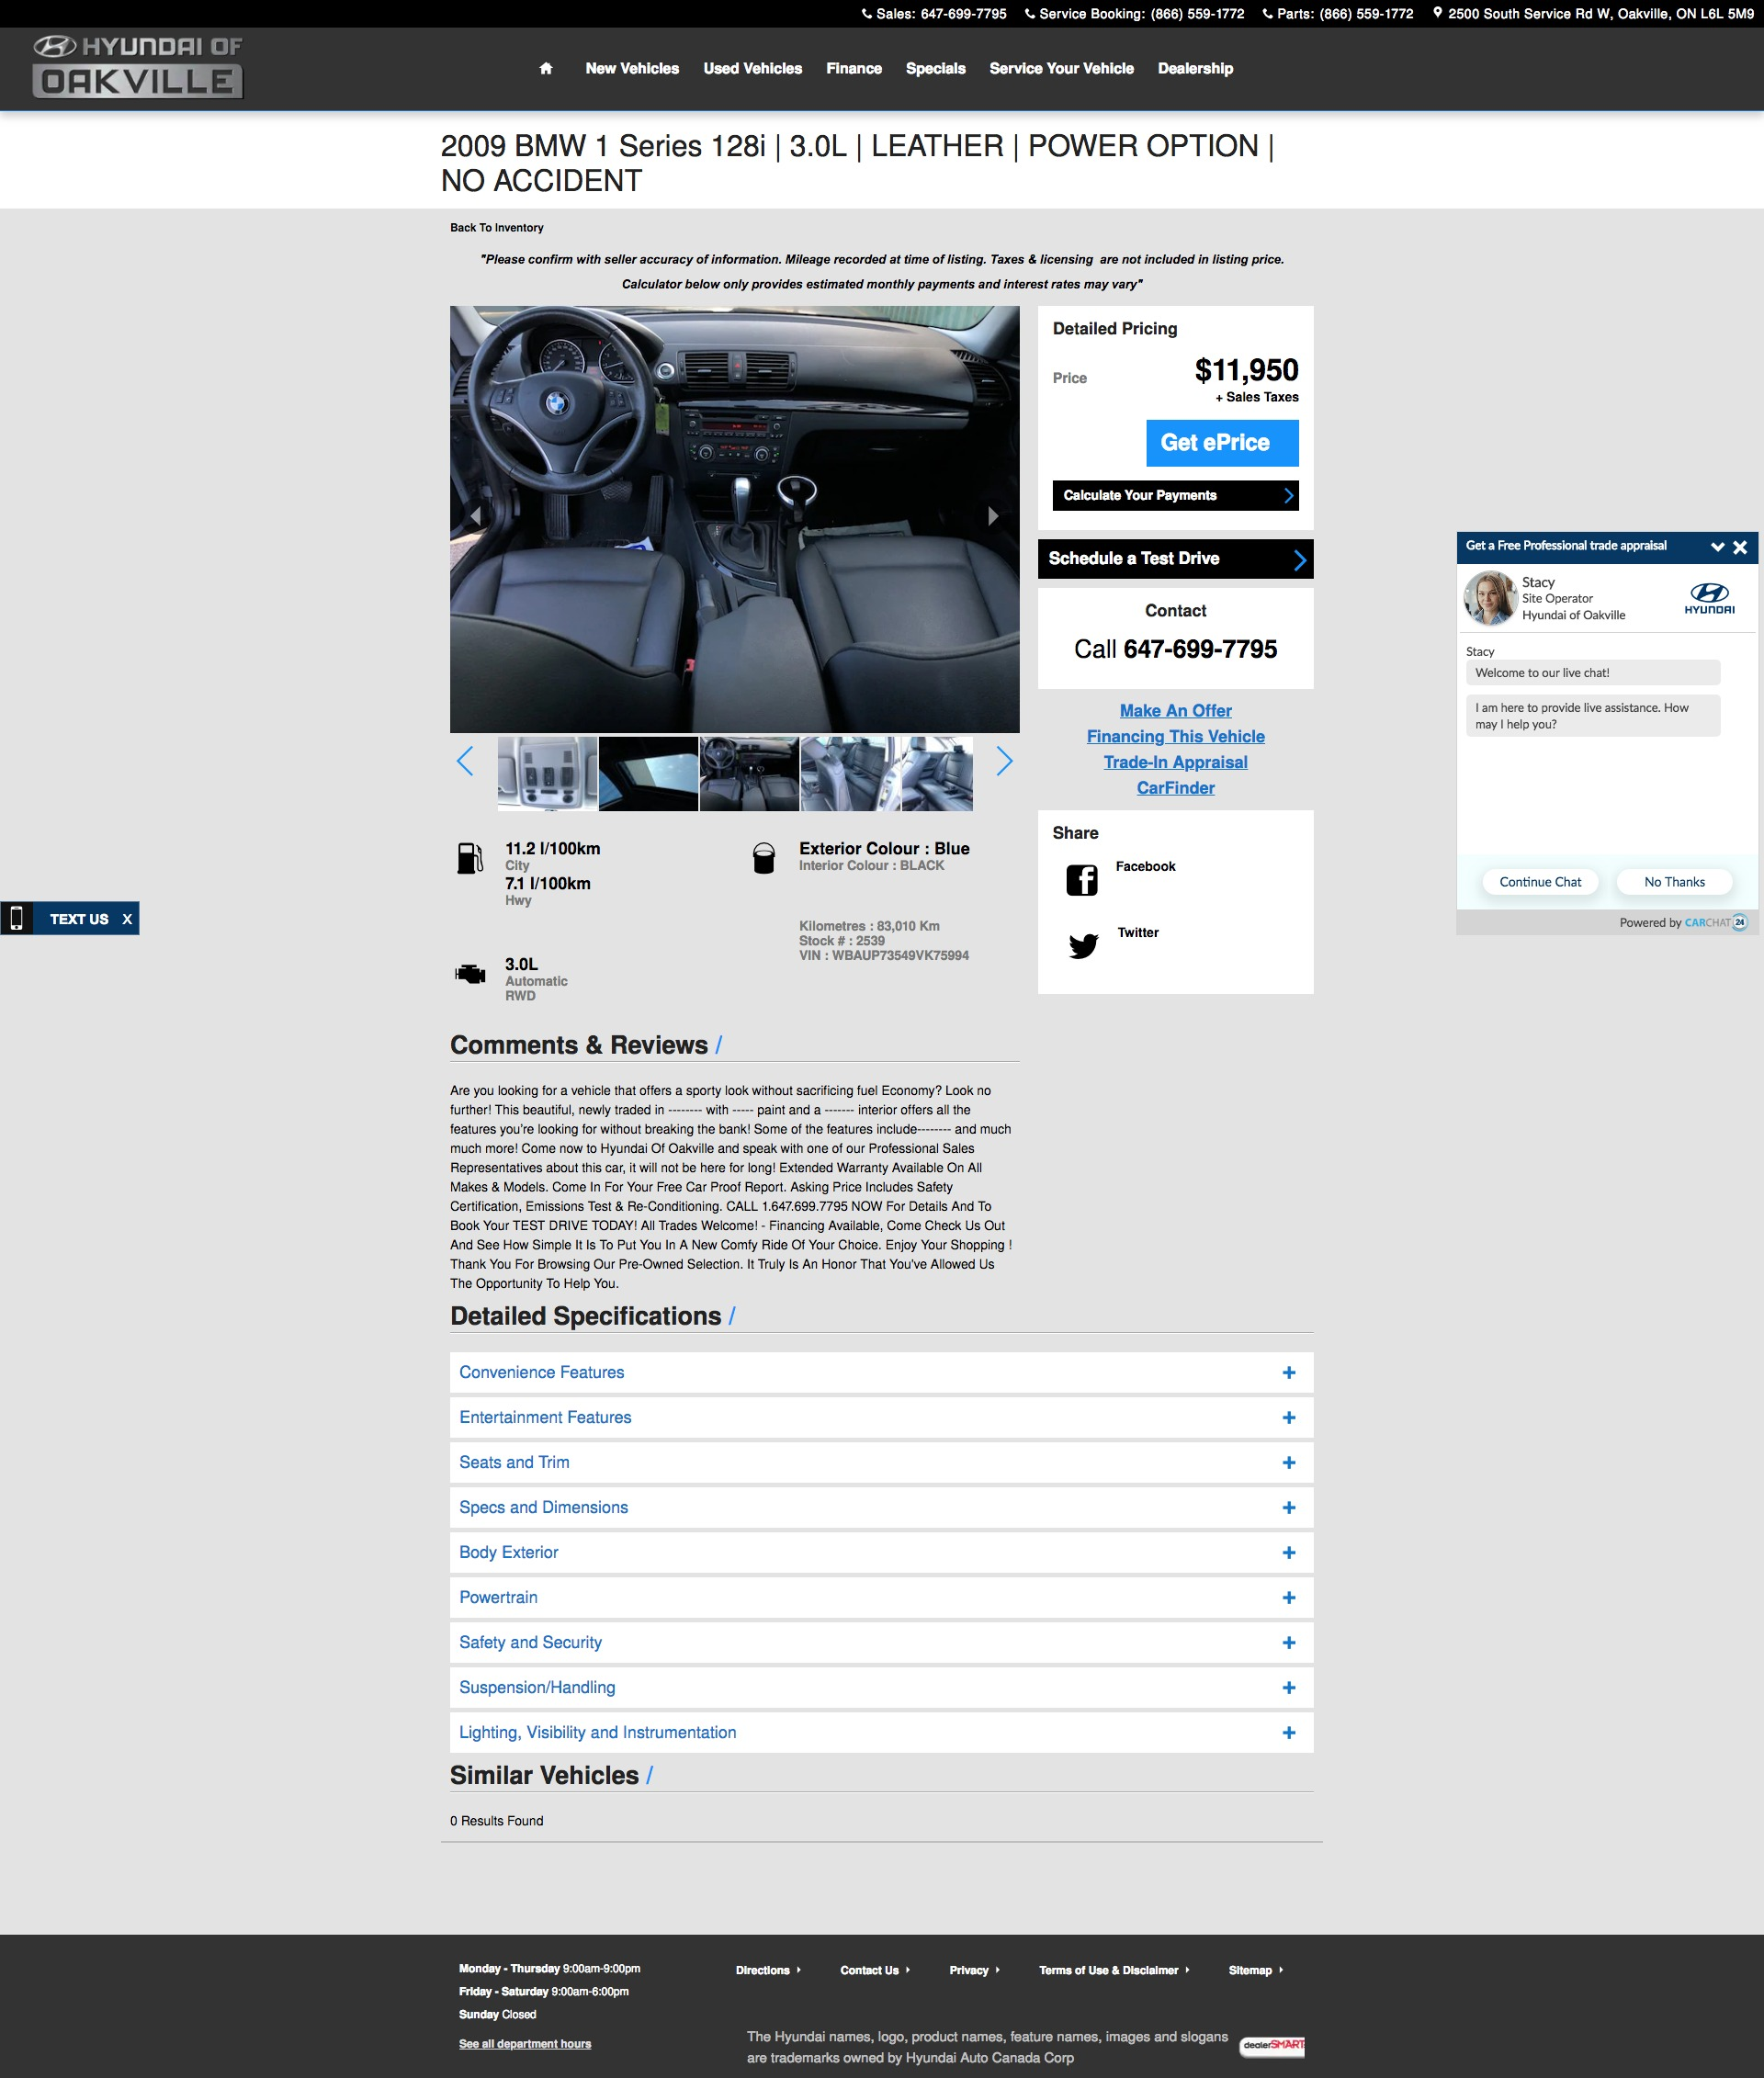car: (997, 745, 1015, 777)
